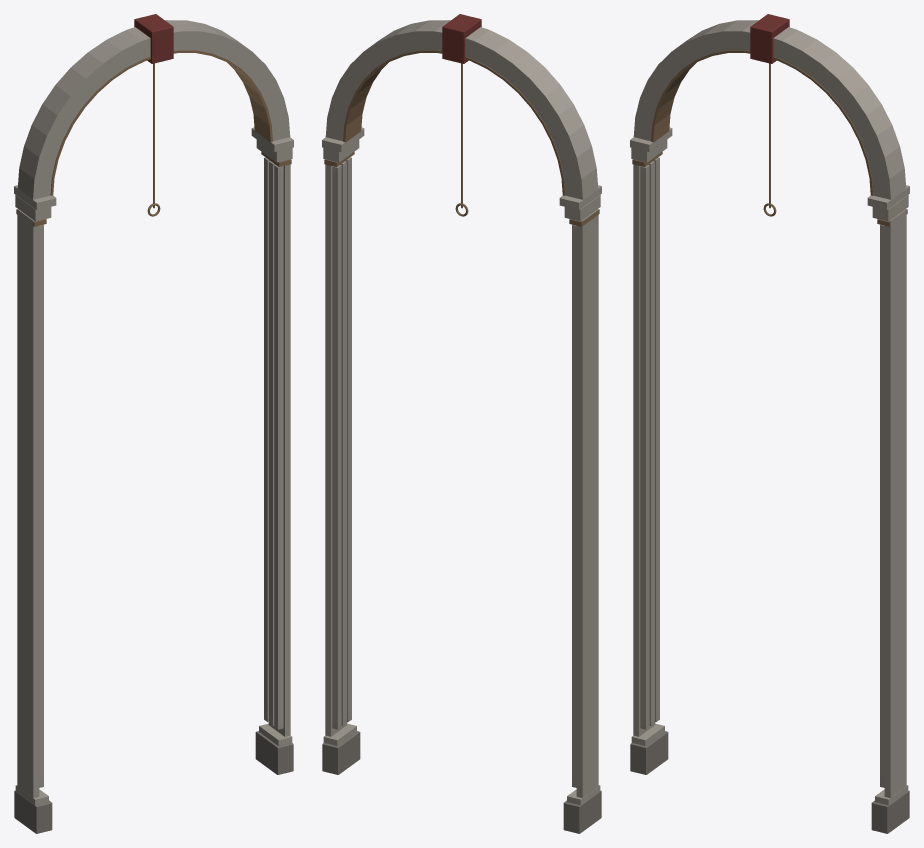
File: gutter_rib.glb
3 views of the same model, side by side, from view 1: azimuth 30°, elevation 25°; view 2: azimuth 150°, elevation 25°; view 3: azimuth 330°, elevation 25° (orthographic).
Parts seen in each view (by area): view 1: m1_gutter_rib; view 2: m1_gutter_rib; view 3: m1_gutter_rib.
Boxes of the visible parts, left/top/right/bottom form: m1_gutter_rib: left=14, top=14, right=293, bottom=833; m1_gutter_rib: left=322, top=14, right=601, bottom=833; m1_gutter_rib: left=630, top=14, right=909, bottom=833.
Bounding box in the file's own units: 3.5 × 10.03 × 0.54.
